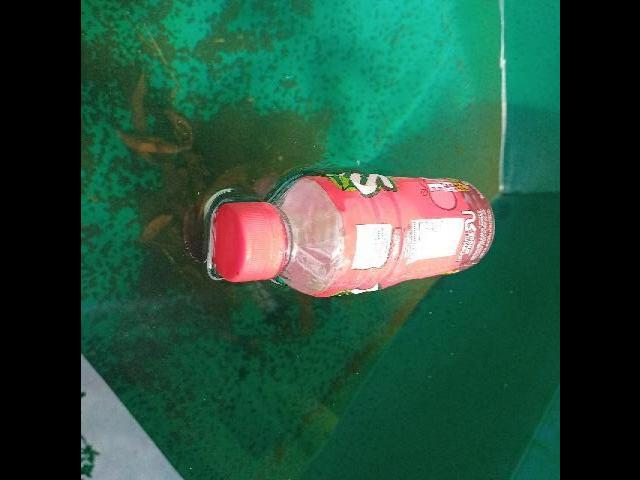Bottle: (199, 162, 501, 308)
